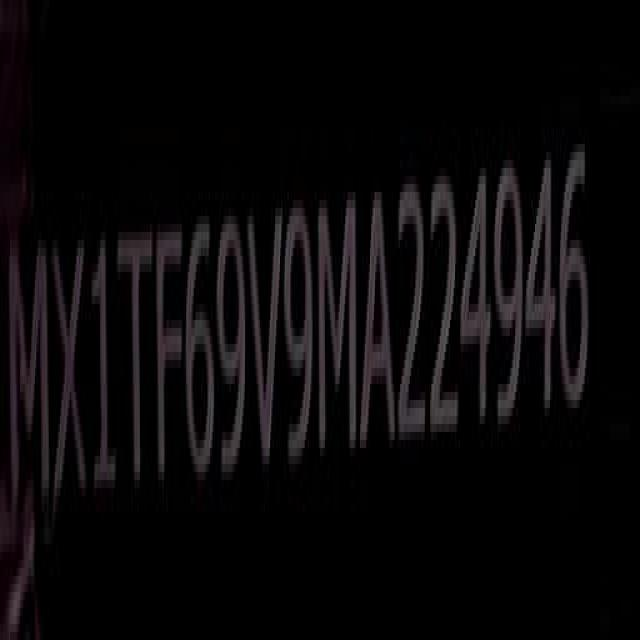2: (431, 165, 461, 448), (398, 175, 428, 458)
4: (461, 159, 489, 441), (528, 152, 556, 429)
6: (562, 140, 593, 420), (189, 219, 217, 495)
9: (496, 158, 526, 433), (217, 208, 246, 490), (286, 196, 314, 469)
A: (363, 183, 395, 458)
F: (154, 214, 182, 500)
L: (93, 234, 119, 509)
M: (7, 249, 52, 507), (318, 189, 356, 469)
T: (120, 220, 152, 504)
V: (247, 207, 281, 477)
X: (52, 227, 86, 512)
